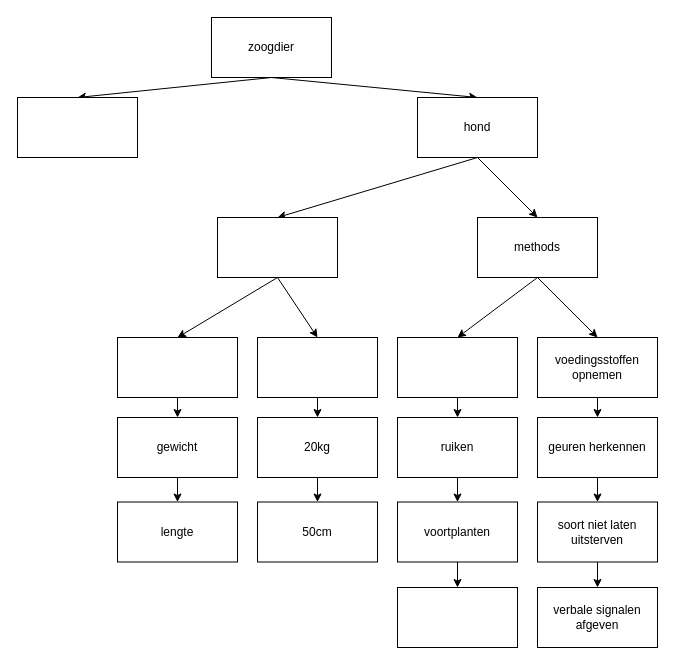
Image size: 675x665. Some labels were removed from this diagram. The centre of each missing label's shape, as x and y in pixels:
"blaffen" belongs at point (457, 617).
"eten en drinken" belongs at point (457, 367).
"kat" belongs at point (77, 127).
"lichtbruin" belongs at point (317, 367).
"properties" belongs at point (277, 247).
"vacht kleur" belongs at point (177, 367).
